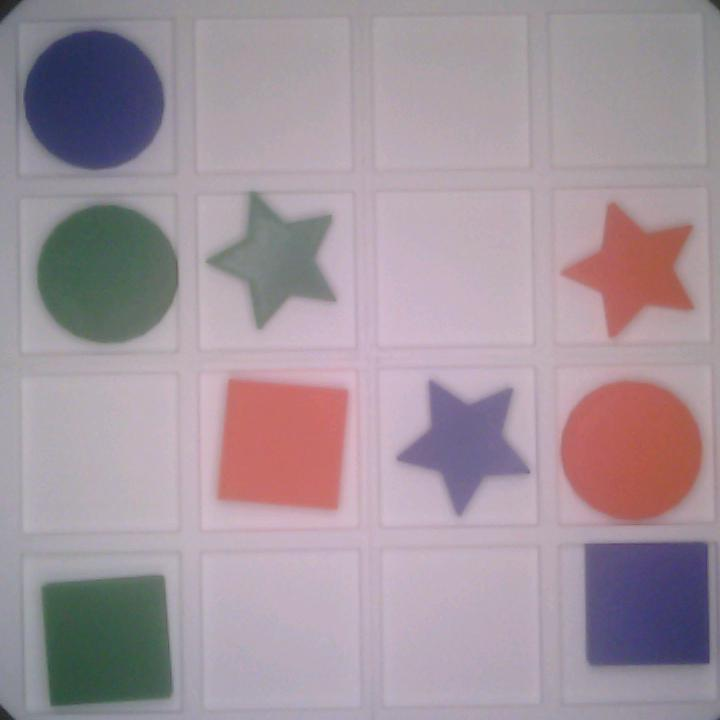Blue circle: (23, 29, 165, 172)
Blue square: (582, 541, 711, 671)
Blue star: (398, 376, 532, 523)
Green circle: (34, 206, 178, 342)
Green square: (39, 578, 174, 706)
Green star: (205, 195, 342, 329)
Orange circle: (561, 379, 700, 521)
Orange square: (214, 375, 351, 512)
Orange star: (561, 199, 698, 336)
